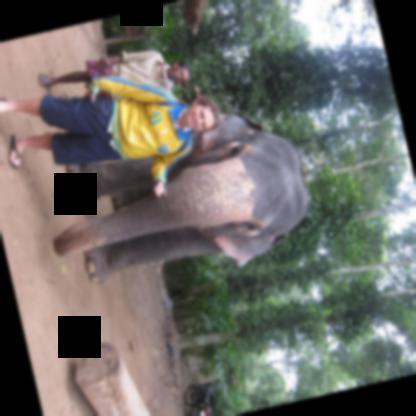backpack: (154, 99, 179, 124), (176, 134, 189, 156)
